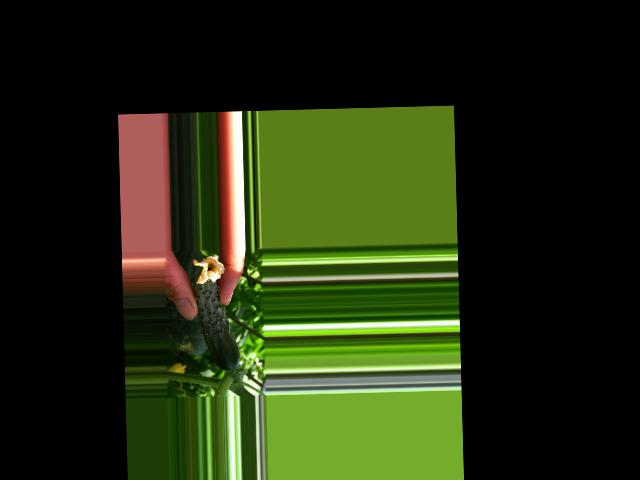cucumber: (192, 255, 239, 371)
